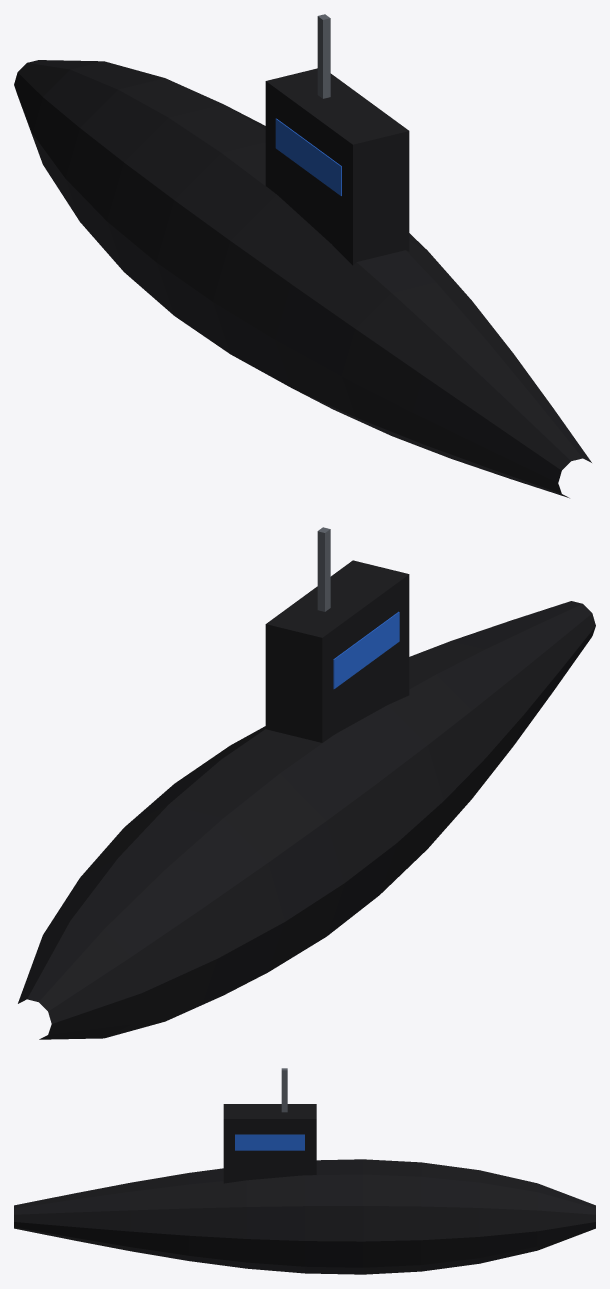
Rendered from submarine.glb.
3 renders of one model, top to bottom at view 1: azimuth 30°, elevation 25°; view 2: azimuth 150°, elevation 25°; view 3: azimuth 270°, elevation 25°, orthographic. The views are drawn at different scales.
Parts seen in each view (by area): view 1: submarine; view 2: submarine; view 3: submarine.
Boxes of the visible parts, left/top/right/bottom form: submarine: left=14, top=14, right=591, bottom=498; submarine: left=18, top=527, right=595, bottom=1039; submarine: left=14, top=1068, right=595, bottom=1274.
Bounding box in the file's own units: 0.1997 × 0.375 × 1.
